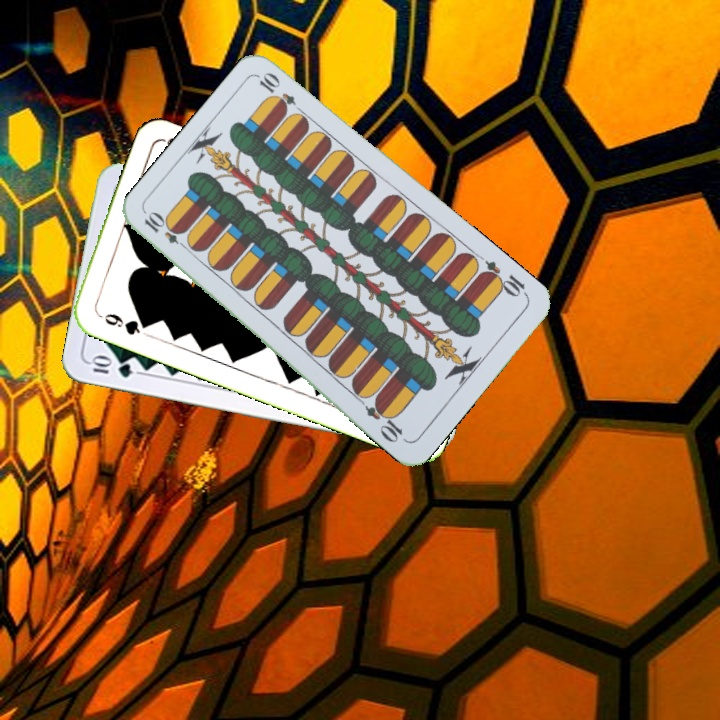E10: (476, 256, 531, 300), (140, 209, 193, 253)
G10: (86, 354, 135, 380)
G9: (93, 308, 153, 338)
